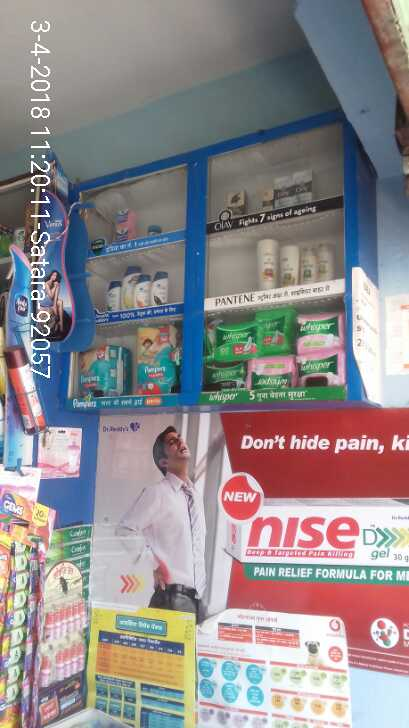vicks: (110, 204, 163, 244)
